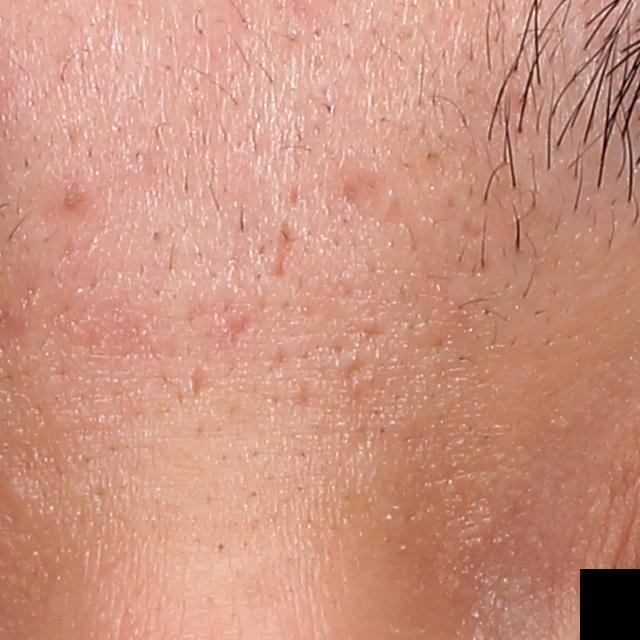atrophic_scar: (268, 215, 303, 280), (187, 359, 208, 401)
